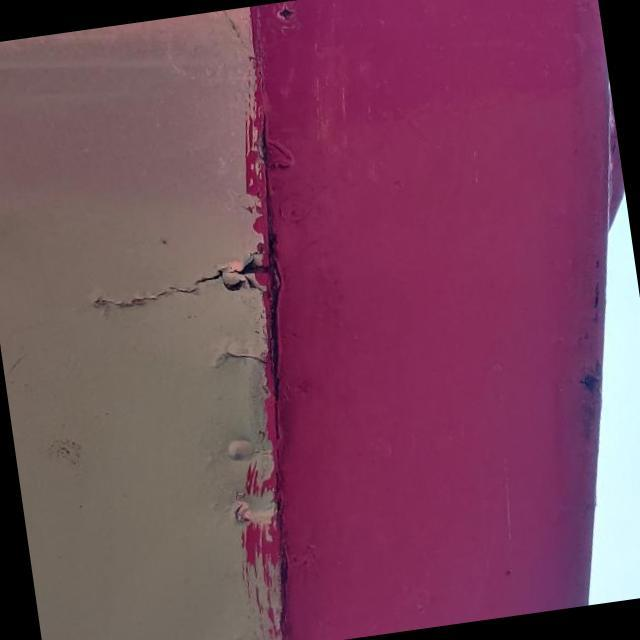Rupture: (74, 234, 291, 339), (200, 327, 282, 383)
